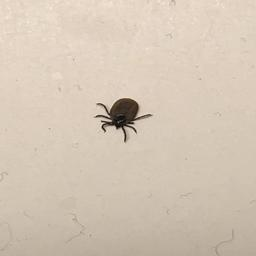Ixodes scapularis: (95, 97, 152, 143)
